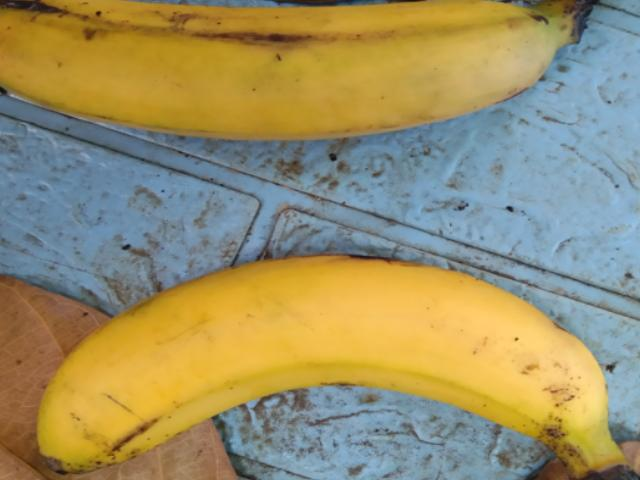freshripe: (43, 242, 625, 479)
ripe: (0, 0, 567, 138)
